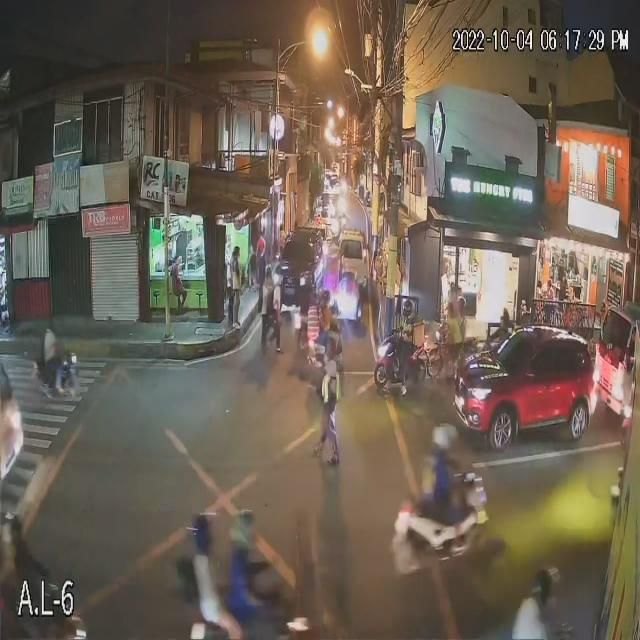helmet: (531, 566, 558, 594), (431, 423, 458, 450), (229, 509, 253, 536), (317, 315, 335, 334)
motorcycle: (175, 543, 311, 639), (391, 462, 490, 570), (373, 326, 417, 398), (34, 348, 84, 403), (302, 315, 338, 374)
rider: (218, 507, 276, 639), (414, 422, 480, 527), (511, 565, 562, 640), (384, 302, 415, 379), (304, 286, 332, 357), (40, 324, 67, 389)
